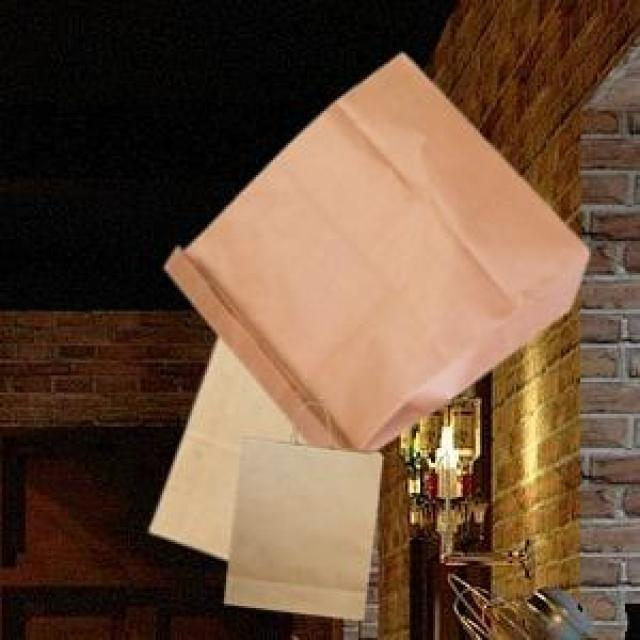paper: (160, 49, 585, 448), (145, 333, 305, 555), (220, 425, 378, 617)
